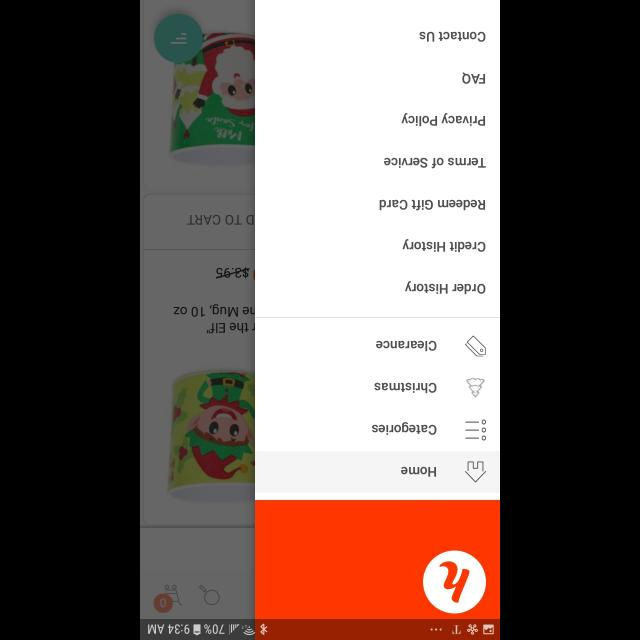icon: (464, 335, 486, 357), (464, 419, 486, 441), (464, 462, 486, 482)
image: (422, 550, 486, 614), (466, 378, 484, 398)
panel: (255, 0, 500, 618)
text: (401, 113, 485, 127), (402, 239, 486, 253), (404, 281, 486, 295), (379, 200, 485, 210), (384, 158, 486, 168), (372, 421, 436, 435), (374, 382, 436, 393), (418, 32, 486, 42), (376, 341, 436, 352), (400, 467, 436, 478), (462, 72, 484, 84)
uppertaskbar: (140, 618, 500, 640)
